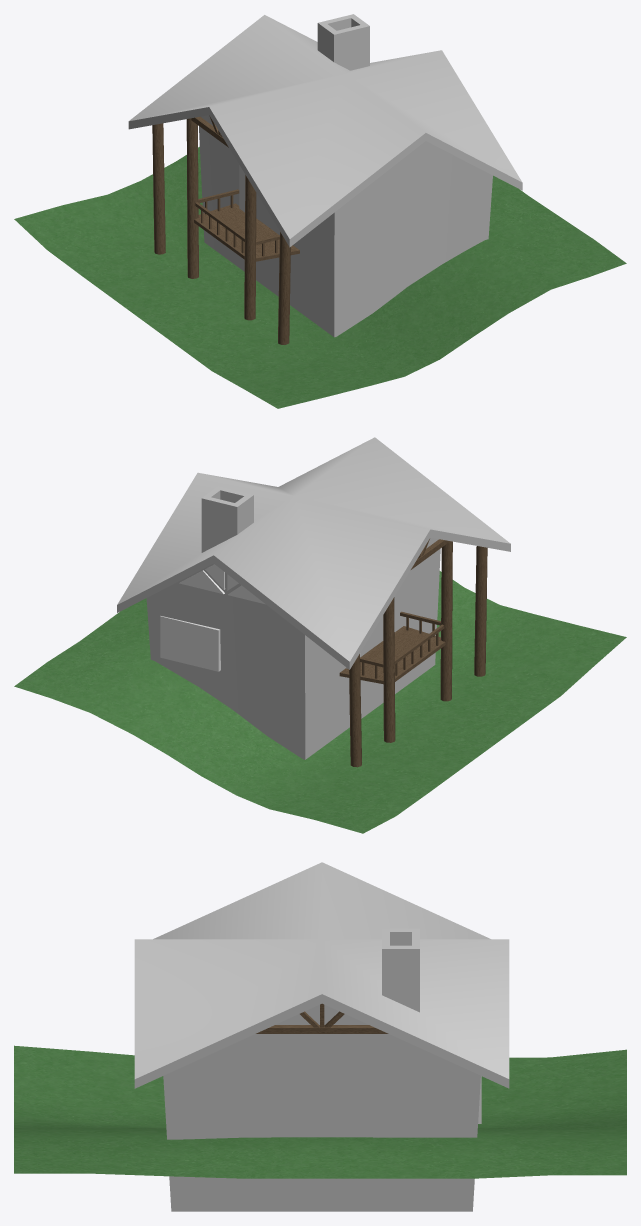
The model's file is puska.fbx.
3 views of the same model, one above another, from view 1: azimuth 30°, elevation 25°; view 2: azimuth 150°, elevation 25°; view 3: azimuth 270°, elevation 25° (orthographic). The views are drawn at different scales.
Visible parts, largest first — view 1: Ground, Roof, House, Chimney, Balcony, Column001, Column002, Column, Column003; view 2: Ground, Roof, House, Window, Chimney, Balcony, Column002, Column001, Column003, Column, TriangleWindow; view 3: Roof, Ground, House, Chimney, RoofColumn001.
Part boxes in pixels (x1=…): Ground: x1=14, y1=147, x2=626, y2=408; Roof: x1=128, y1=15, x2=522, y2=247; House: x1=199, y1=115, x2=492, y2=337; Chimney: x1=317, y1=14, x2=369, y2=70; Balcony: x1=194, y1=203, x2=299, y2=261; Column001: x1=186, y1=118, x2=198, y2=278; Column002: x1=244, y1=175, x2=256, y2=320; Column: x1=152, y1=123, x2=165, y2=254; Column003: x1=278, y1=232, x2=290, y2=344; Ground: x1=14, y1=571, x2=626, y2=833; Roof: x1=117, y1=437, x2=510, y2=669; House: x1=146, y1=537, x2=440, y2=759; Window: x1=160, y1=616, x2=220, y2=671; Chimney: x1=201, y1=486, x2=253, y2=552; Balcony: x1=339, y1=626, x2=445, y2=684; Column002: x1=440, y1=541, x2=452, y2=701; Column001: x1=383, y1=597, x2=395, y2=742; Column003: x1=474, y1=546, x2=487, y2=676; Column: x1=349, y1=654, x2=361, y2=767; TriangleWindow: x1=179, y1=564, x2=265, y2=604; Roof: x1=134, y1=862, x2=509, y2=1088; Ground: x1=14, y1=1045, x2=626, y2=1178; House: x1=163, y1=1004, x2=480, y2=1211; Chimney: x1=382, y1=928, x2=419, y2=1012; RoofColumn001: x1=256, y1=1003, x2=388, y2=1033.
Size of the model in its own units: 88.03 by 52.23 by 115.
